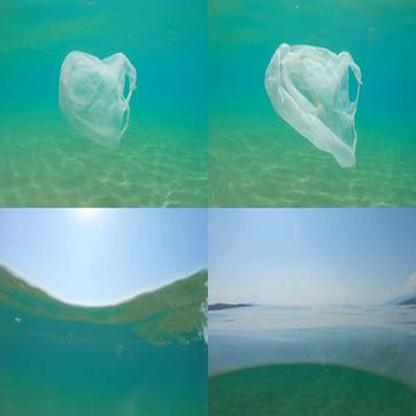plastic bag: (264, 41, 361, 168), (54, 53, 138, 148)
